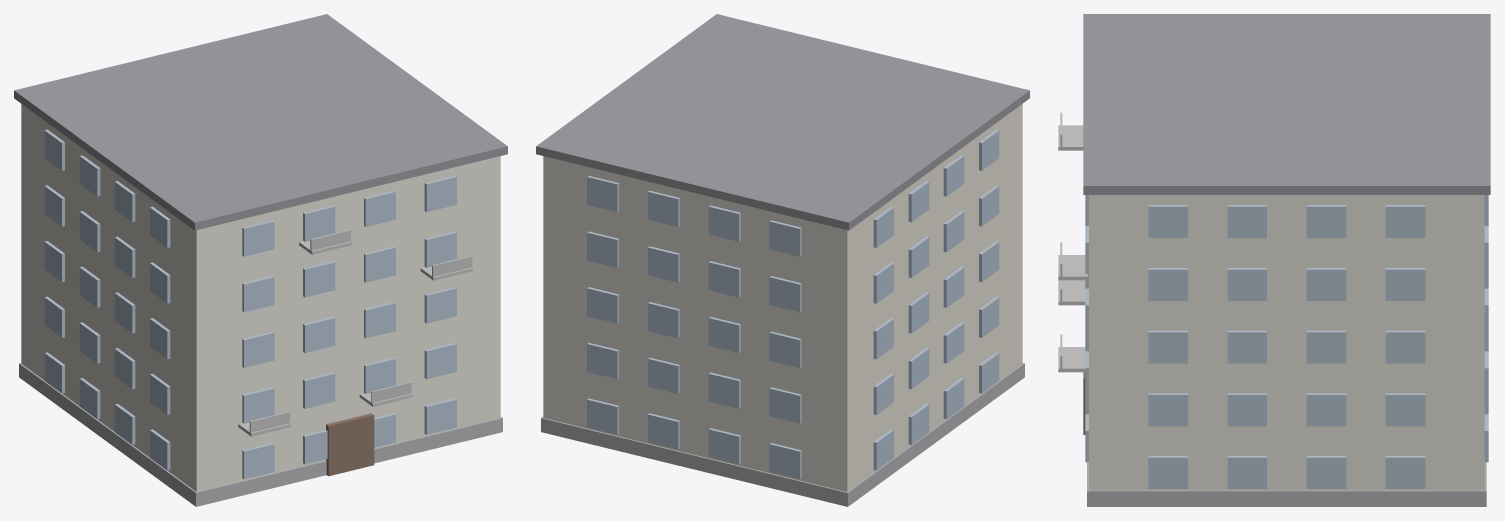
Rendered from Apt_2x2_5F.glb.
3 views of the same model, side by side, from view 1: azimuth 30°, elevation 25°; view 2: azimuth 150°, elevation 25°; view 3: azimuth 270°, elevation 25° (orthographic). The views are drawn at different scales.
Visible parts, largest first — view 1: Apt_2x2_5F; view 2: Apt_2x2_5F; view 3: Apt_2x2_5F.
Boxes of the visible parts, x1,y1,x2,y2 form: Apt_2x2_5F: [14, 14, 507, 506]; Apt_2x2_5F: [536, 14, 1029, 506]; Apt_2x2_5F: [1058, 14, 1490, 506].
Size of the model in its own units: 2.06 by 1.8 by 2.18.
